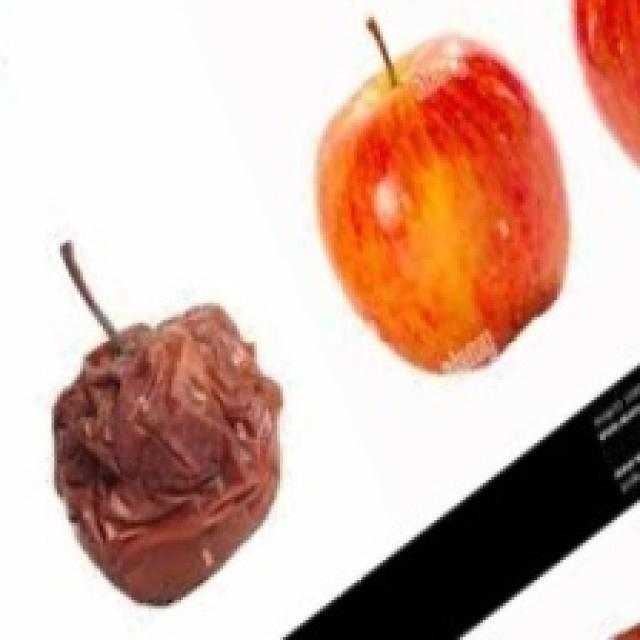rotten_apple: (59, 309, 280, 594)
